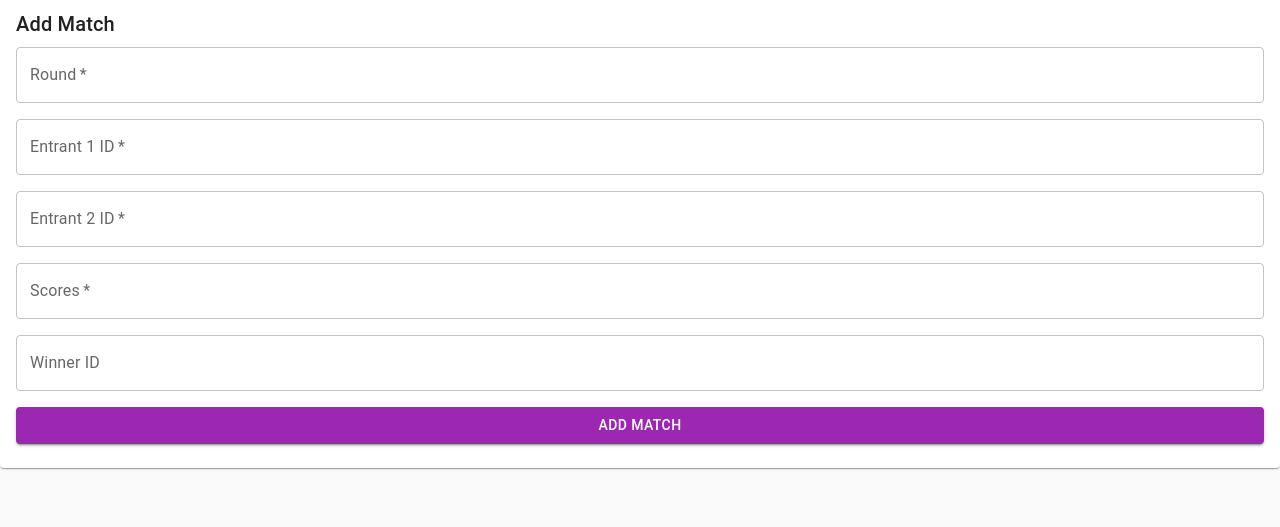
Scenario: MatchDashboard › shows error when winner_id does not match entrants
Type "1" into the field labelled "Round *" at (640, 75), box [16,47,1264,103]
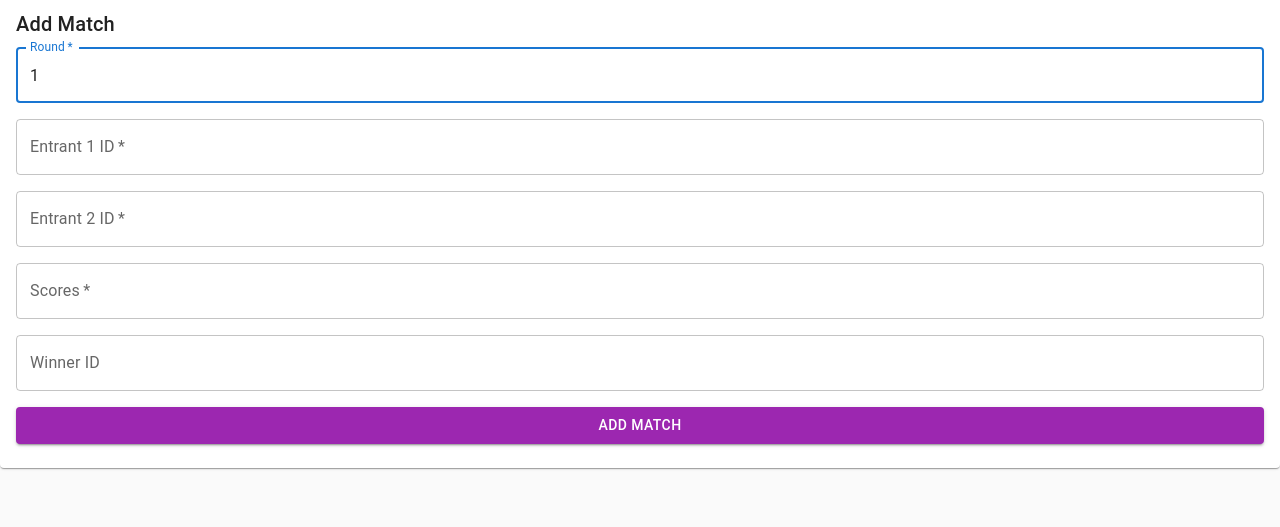
Type "1" into the field labelled "Entrant 1 ID *" at (640, 147), box [16,119,1264,175]
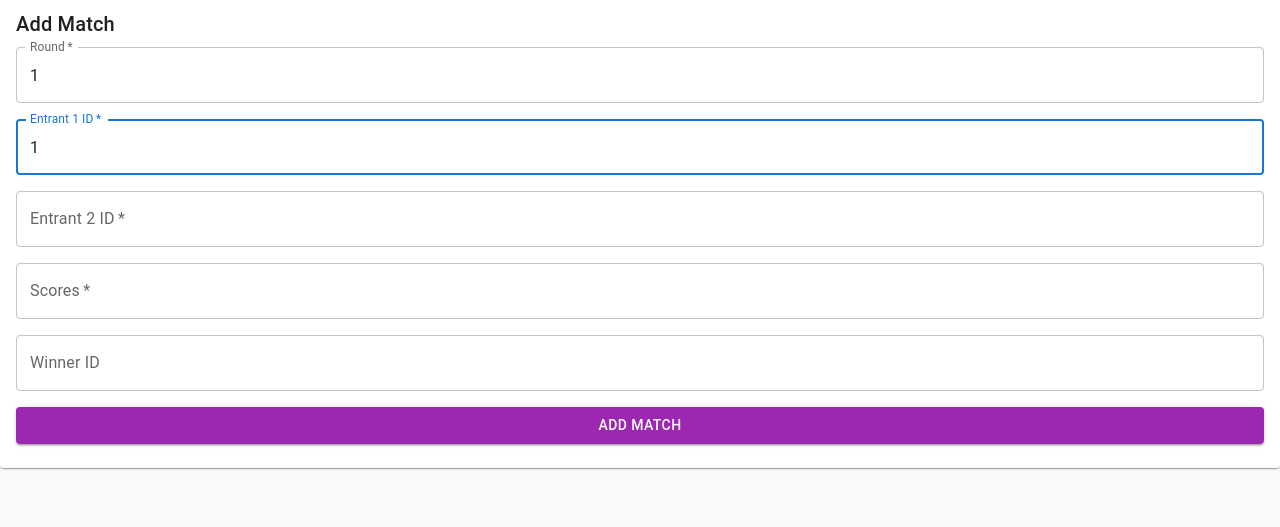
Type "2" into the field labelled "Entrant 2 ID *" at (640, 219), box [16,191,1264,247]
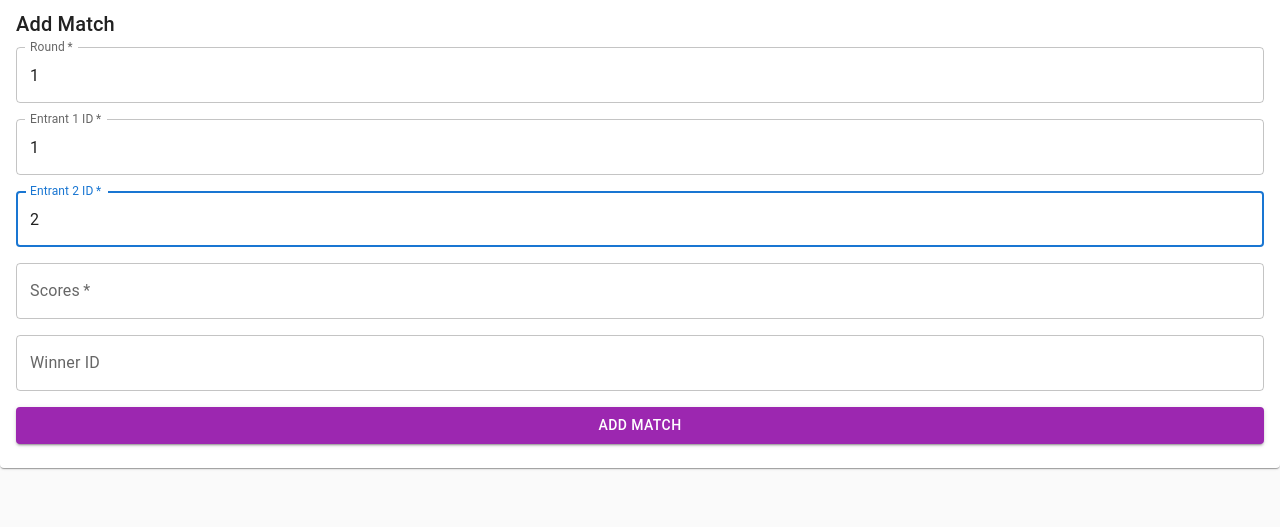
Type "2-0" into the field labelled "Scores *" at (640, 291), box [16,263,1264,319]
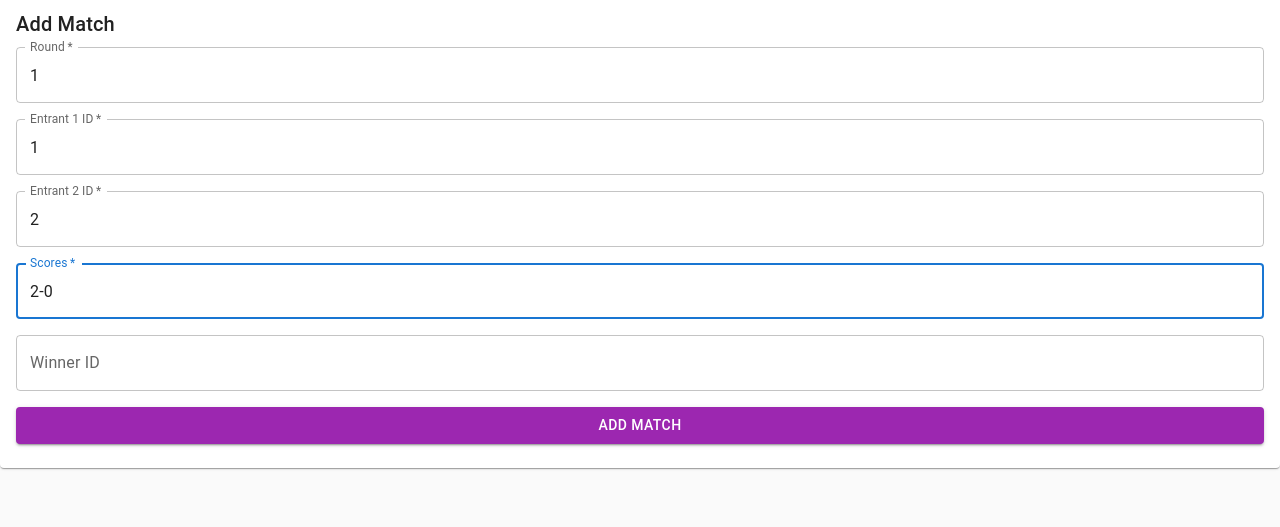
Type "99" into the field labelled "Winner ID" at (640, 363), box [16,335,1264,391]
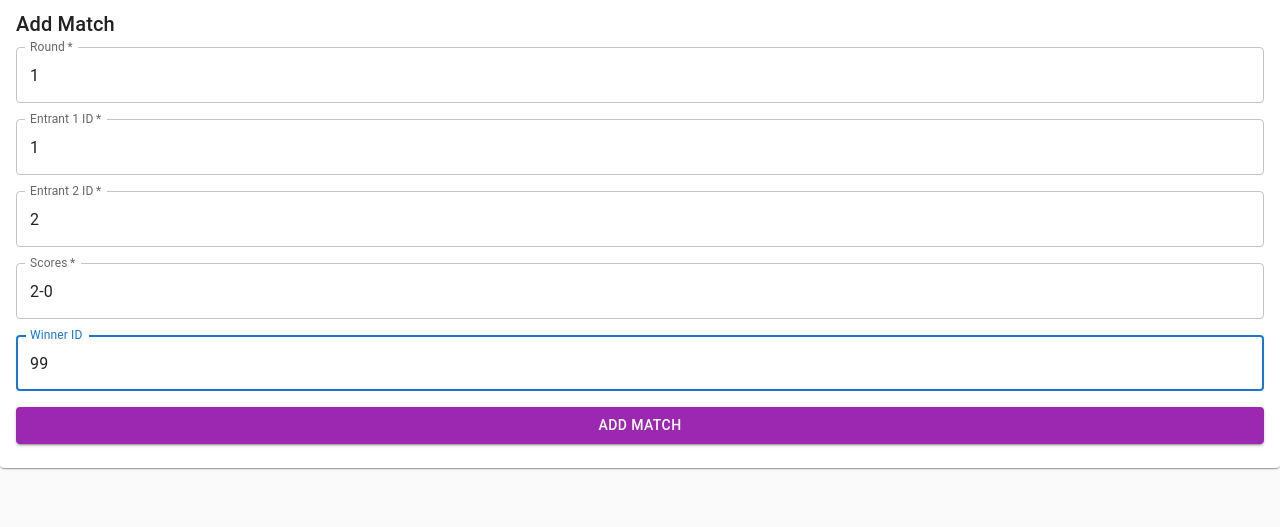
Click the button "Add Match" at (640, 425), box [16,407,1264,444]
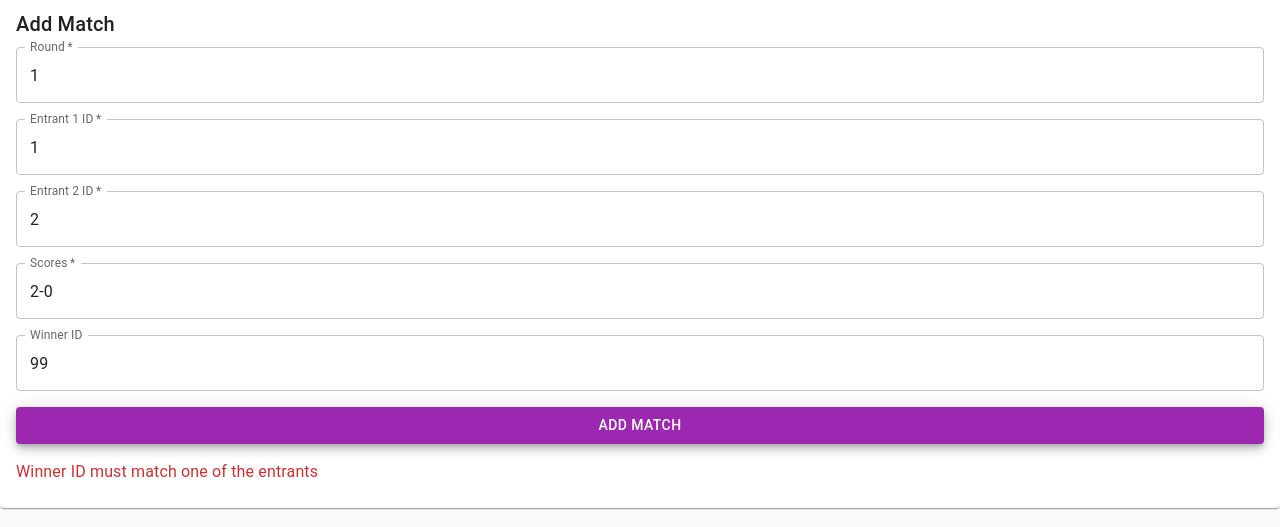
Expected: the message reads "Winner ID must match one of the entrants", [16,462,318,480]
